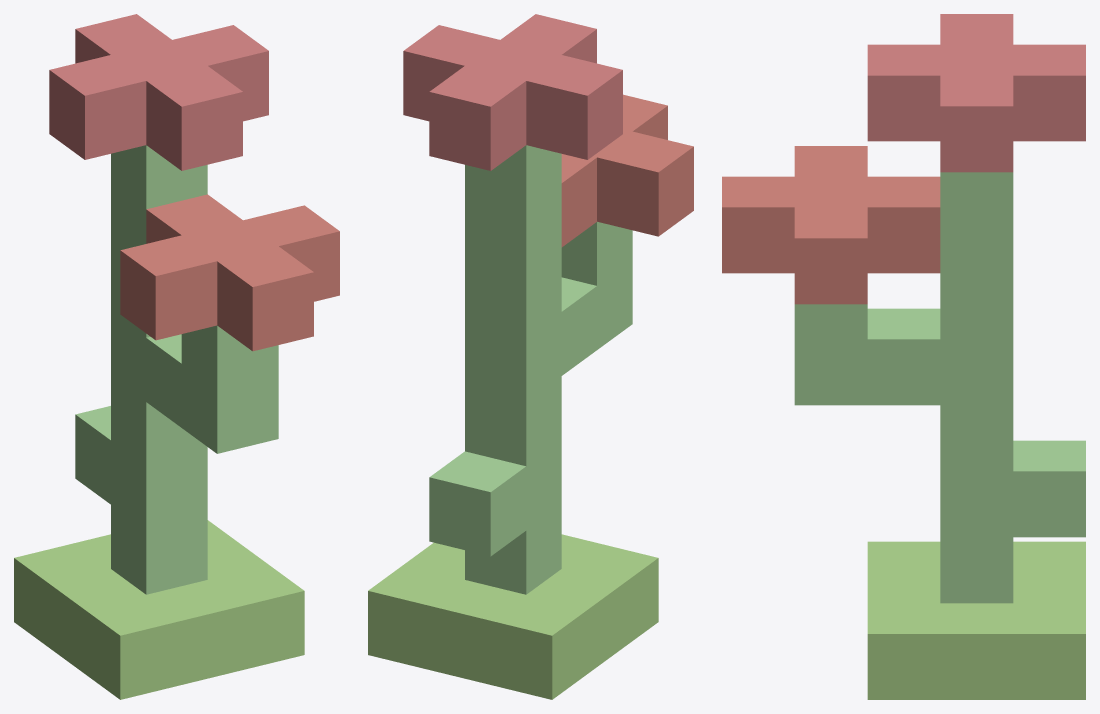
The model's file is jop.glb.
3 views of the same model, side by side, from view 1: azimuth 30°, elevation 25°; view 2: azimuth 150°, elevation 25°; view 3: azimuth 270°, elevation 25° (orthographic). The views are drawn at different scales.
Parts seen in each view (by area): view 1: mesh_3, mesh_2, mesh_1, mesh_0; view 2: mesh_3, mesh_2, mesh_0, mesh_1; view 3: mesh_3, mesh_1, mesh_2, mesh_0.
Boxes of the visible parts, x1,y1,x2,y2 form: mesh_3: (75,14,304,684); mesh_2: (14,55,181,699); mesh_1: (181,205,339,453); mesh_0: (120,235,217,340); mesh_3: (368,14,596,684); mesh_2: (490,55,658,699); mesh_0: (597,131,693,236); mesh_1: (561,94,667,349); mesh_3: (867,44,1085,699); mesh_1: (722,176,867,405); mesh_2: (867,14,1085,572); mesh_0: (794,146,867,176).
Size of the model in its own units: 3 by 9 by 5.
